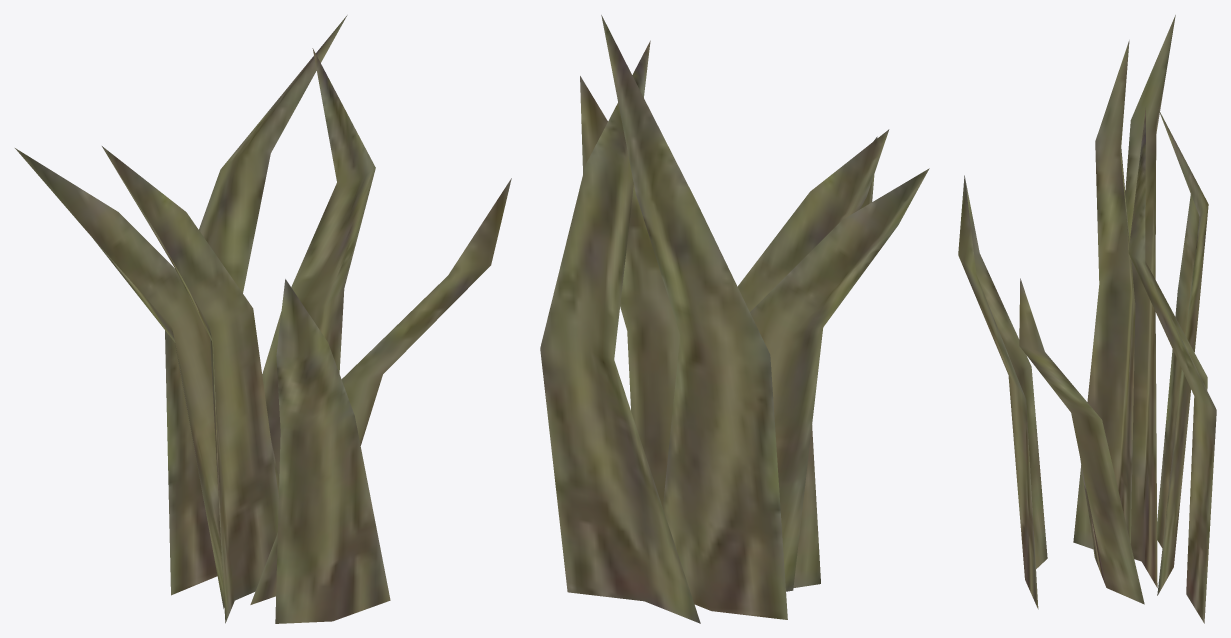
The model's file is grass_02.glb.
The picture shows the model from 3 angles, left to right: view 1: azimuth 30°, elevation 25°; view 2: azimuth 150°, elevation 25°; view 3: azimuth 270°, elevation 25°; orthographic projection. The views are drawn at different scales.
Visible parts, largest first — view 1: SM_Grass_02; view 2: SM_Grass_02; view 3: SM_Grass_02.
Boxes of the visible parts, <box> form: SM_Grass_02: <box>15,15,511,623</box>; SM_Grass_02: <box>540,15,929,623</box>; SM_Grass_02: <box>958,15,1216,623</box>.
Size of the model in its own units: 0.462 by 0.5699 by 0.26.
Materials: 1 (1 with a texture image).
